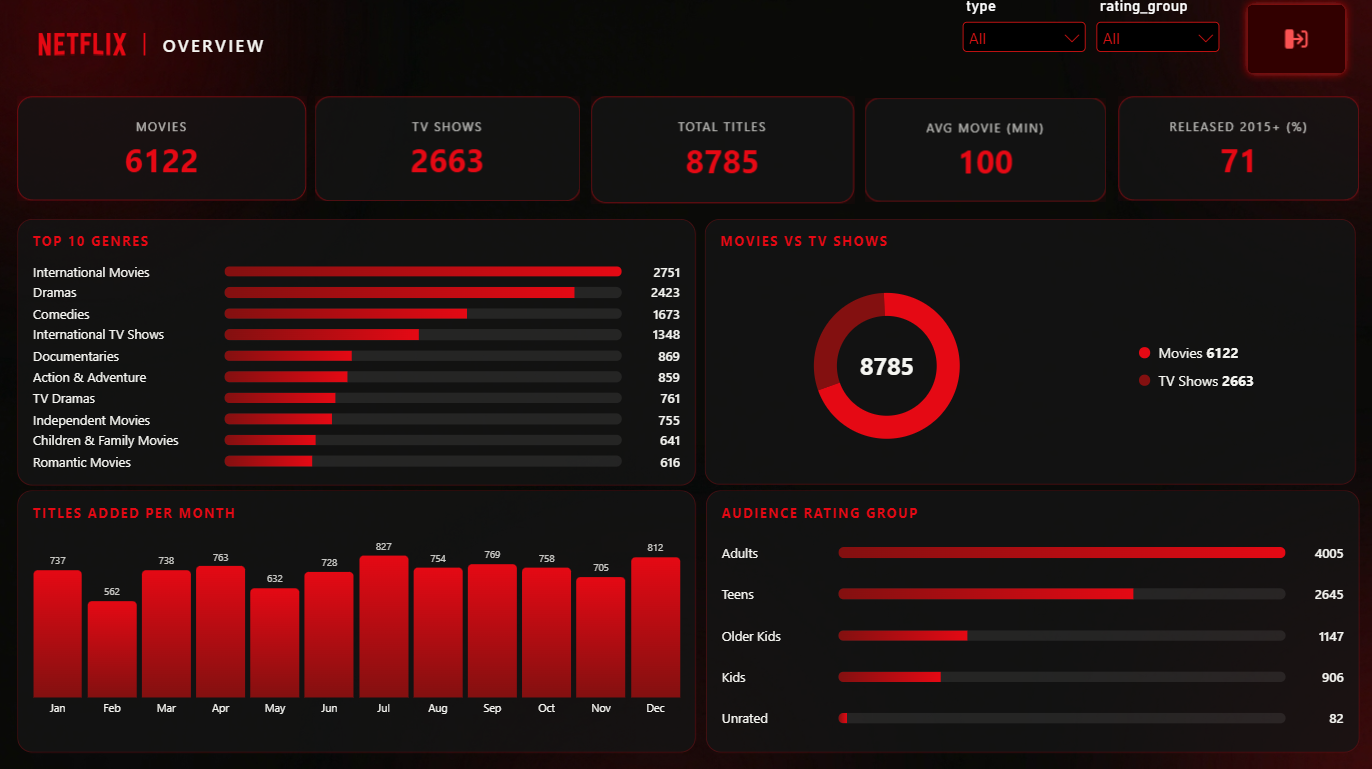

The dashboard page shown, as its layout file describes it:
{"tool":"powerbi","page":{"name":"Over view","canvas":[1280,720],"ordinal":1},"visuals":[{"type":"htmlContent443BE3AD55E043BF878BED274D3A6855","fields":{"content":["Netflix_Directors.P2_Header"]},"box":[0,0,301.2,70.9],"z":0},{"type":"htmlContent443BE3AD55E043BF878BED274D3A6855","fields":{"content":["Netflix_Directors.P2_KPI_Total"]},"box":[533.7,79.1,276.7,129.1],"z":1000},{"type":"htmlContent443BE3AD55E043BF878BED274D3A6855","fields":{"content":["Netflix_Directors.P2_KPI_Movies"]},"box":[0,79.1,301.2,126.7],"z":2000},{"type":"htmlContent443BE3AD55E043BF878BED274D3A6855","fields":{"content":["Netflix_Directors.P2_KPI_TV"]},"box":[276.7,79.1,279.1,127.9],"z":3000},{"type":"htmlContent443BE3AD55E043BF878BED274D3A6855","fields":{"content":["Netflix_Directors.P2_KPI_AvgMovie"]},"box":[788.4,80.2,257,126.7],"z":4000},{"type":"htmlContent443BE3AD55E043BF878BED274D3A6855","fields":{"content":["Netflix_Directors.P2_KPI_Recent"]},"box":[1024.4,79.1,255.8,126.7],"z":5000},{"type":"htmlContent443BE3AD55E043BF878BED274D3A6855","fields":{"content":["Netflix_Directors.P2_Chart_Donut"]},"box":[639,192.7,637.8,276.8],"z":6000},{"type":"htmlContent443BE3AD55E043BF878BED274D3A6855","fields":{"content":["Netflix_Directors.P2_Chart_Rating"]},"box":[640.2,445.1,640.2,274.4],"z":8000},{"type":"htmlContent443BE3AD55E043BF878BED274D3A6855","fields":{"content":["Netflix_Directors.P2_Chart_Months"]},"box":[0,445.1,663.4,274.4],"z":9000},{"type":"slicer","fields":{"Values":["Netflix_Clean.rating_group"]},"box":[1015.1,0,124.4,70.9],"z":10000},{"type":"slicer","fields":{"Values":["Netflix_Clean.type"]},"box":[890.7,0,124.4,70.9],"z":11000},{"type":"actionButton","box":[1152.3,0,107,80.2],"z":11001},{"type":"htmlContent443BE3AD55E043BF878BED274D3A6855","fields":{"content":["Netflix_Genres.P3_Chart_Genres"]},"box":[0,192.7,663.4,278],"z":11002}]}

Visuals, with their boxes in screenshot pixels (x1, y1, x2, y2), scaled from the page's 1280x720 canvas onto the 1372x769 screenshot:
htmlContent443BE3AD55E043BF878BED274D3A6855 - Netflix_Directors.P2_Header: crop(0, 0, 323, 76)
htmlContent443BE3AD55E043BF878BED274D3A6855 - Netflix_Directors.P2_KPI_Total: crop(572, 84, 869, 222)
htmlContent443BE3AD55E043BF878BED274D3A6855 - Netflix_Directors.P2_KPI_Movies: crop(0, 84, 323, 220)
htmlContent443BE3AD55E043BF878BED274D3A6855 - Netflix_Directors.P2_KPI_TV: crop(297, 84, 596, 221)
htmlContent443BE3AD55E043BF878BED274D3A6855 - Netflix_Directors.P2_KPI_AvgMovie: crop(845, 86, 1121, 221)
htmlContent443BE3AD55E043BF878BED274D3A6855 - Netflix_Directors.P2_KPI_Recent: crop(1098, 84, 1371, 220)
htmlContent443BE3AD55E043BF878BED274D3A6855 - Netflix_Directors.P2_Chart_Donut: crop(685, 206, 1369, 501)
htmlContent443BE3AD55E043BF878BED274D3A6855 - Netflix_Directors.P2_Chart_Rating: crop(686, 475, 1371, 768)
htmlContent443BE3AD55E043BF878BED274D3A6855 - Netflix_Directors.P2_Chart_Months: crop(0, 475, 711, 768)
slicer - Netflix_Clean.rating_group: crop(1088, 0, 1221, 76)
slicer - Netflix_Clean.type: crop(955, 0, 1088, 76)
actionButton: crop(1235, 0, 1350, 86)
htmlContent443BE3AD55E043BF878BED274D3A6855 - Netflix_Genres.P3_Chart_Genres: crop(0, 206, 711, 503)
